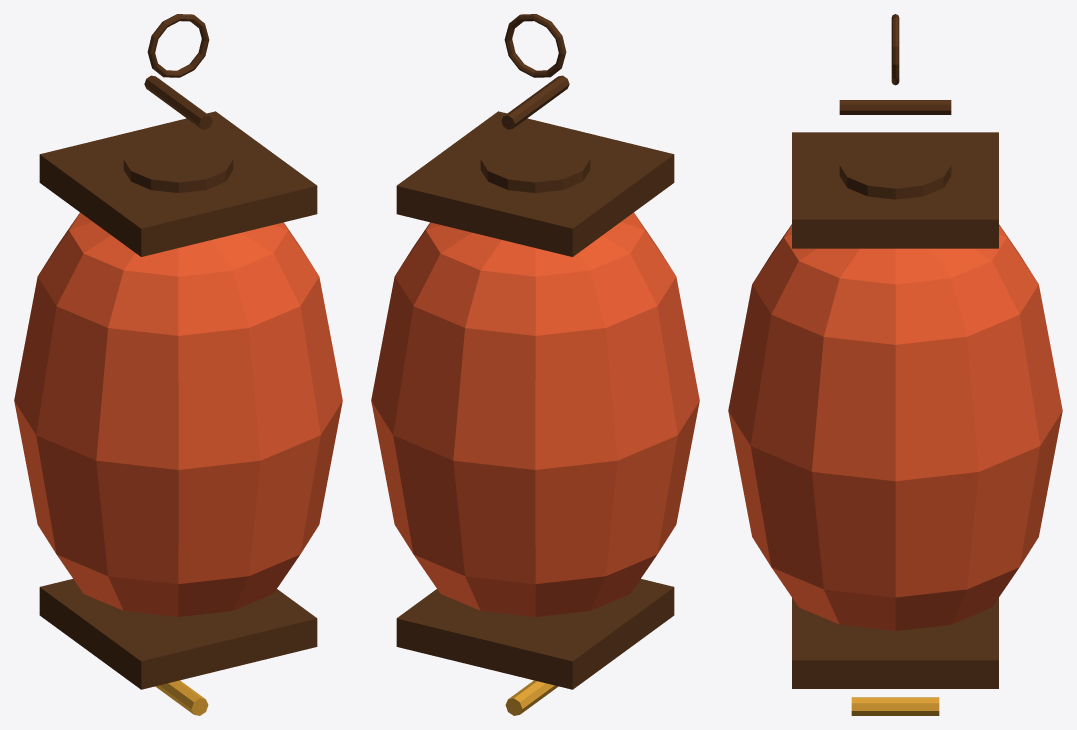
Rendered from lantern_hoian_placeholder.obj.
3 renders of one model, left to right at view 1: azimuth 30°, elevation 25°; view 2: azimuth 150°, elevation 25°; view 3: azimuth 270°, elevation 25°, orthographic.
Parts seen in each view (by area): view 1: body, topcap, botcap, ringtop, loop, stem, tassel; view 2: body, topcap, botcap, ringtop, loop, stem, tassel; view 3: body, topcap, botcap, ringtop, stem, tassel, loop.
Boxes of the visible parts, x1,y1,x2,y2 form: body: [14, 212, 342, 616]; topcap: [39, 111, 317, 256]; botcap: [39, 579, 317, 689]; ringtop: [123, 136, 233, 192]; loop: [147, 14, 209, 77]; stem: [144, 75, 212, 129]; tassel: [155, 680, 208, 715]; body: [371, 212, 699, 616]; topcap: [396, 111, 674, 256]; botcap: [396, 579, 674, 689]; ringtop: [480, 136, 590, 192]; loop: [504, 14, 566, 77]; stem: [501, 75, 569, 129]; tassel: [505, 680, 558, 715]; body: [728, 224, 1062, 630]; topcap: [792, 132, 998, 248]; botcap: [792, 598, 998, 688]; ringtop: [839, 141, 951, 199]; stem: [839, 100, 951, 114]; tassel: [851, 697, 939, 715]; loop: [891, 14, 899, 85].
Bounding box in the file's own units: 0.84 × 1.94 × 0.84.
